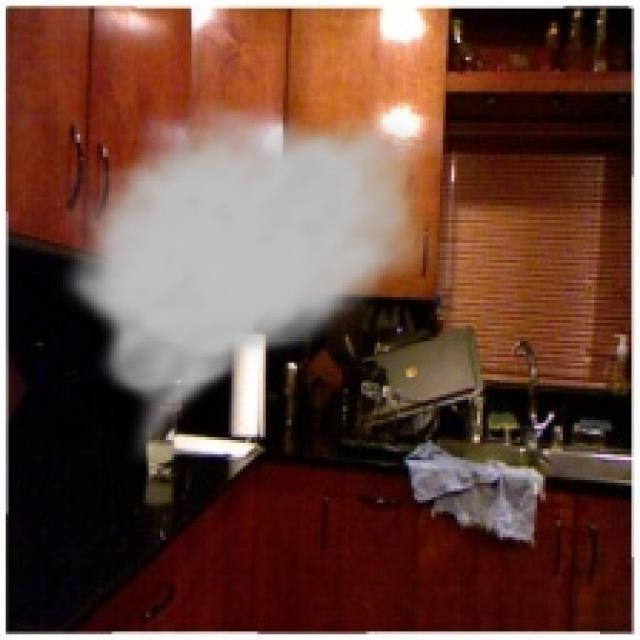smoke: (54, 100, 449, 469)
